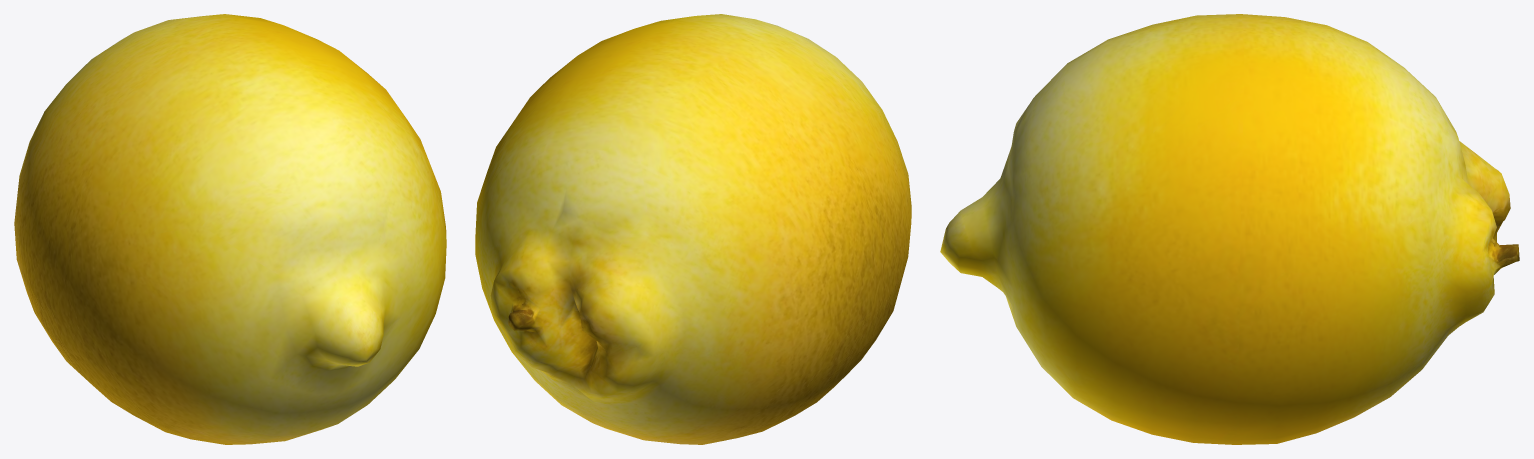
File: lemon.glb
The picture shows the model from 3 angles, left to right: view 1: azimuth 30°, elevation 25°; view 2: azimuth 150°, elevation 25°; view 3: azimuth 270°, elevation 25°; orthographic projection. The views are drawn at different scales.
Parts seen in each view (by area): view 1: tripo_node_cbe95a4e-f58b-406a-ab85-a9b28406a0db; view 2: tripo_node_cbe95a4e-f58b-406a-ab85-a9b28406a0db; view 3: tripo_node_cbe95a4e-f58b-406a-ab85-a9b28406a0db.
Part boxes in pixels (x1=…): tripo_node_cbe95a4e-f58b-406a-ab85-a9b28406a0db: x1=14, y1=14, x2=446, y2=444; tripo_node_cbe95a4e-f58b-406a-ab85-a9b28406a0db: x1=475, y1=14, x2=911, y2=444; tripo_node_cbe95a4e-f58b-406a-ab85-a9b28406a0db: x1=940, y1=14, x2=1519, y2=444.
Size of the model in its own units: 0.7402 by 0.752 by 0.998.
Materials: 1 (1 with a texture image).
